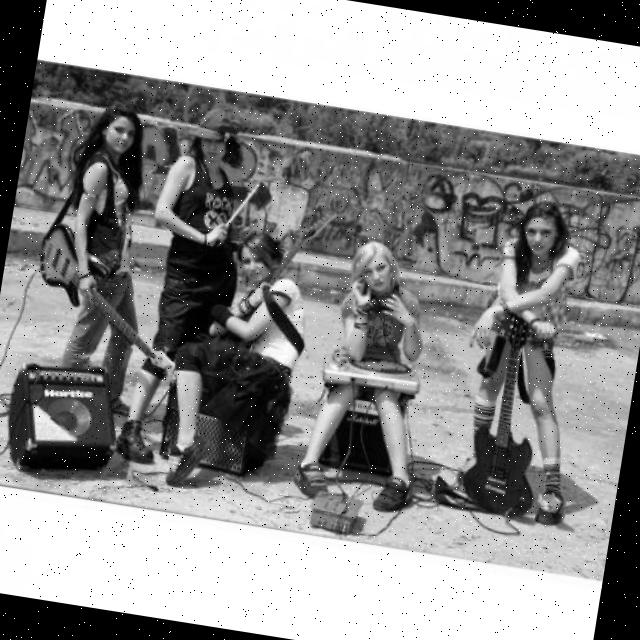guitar: (458, 293, 560, 525)
